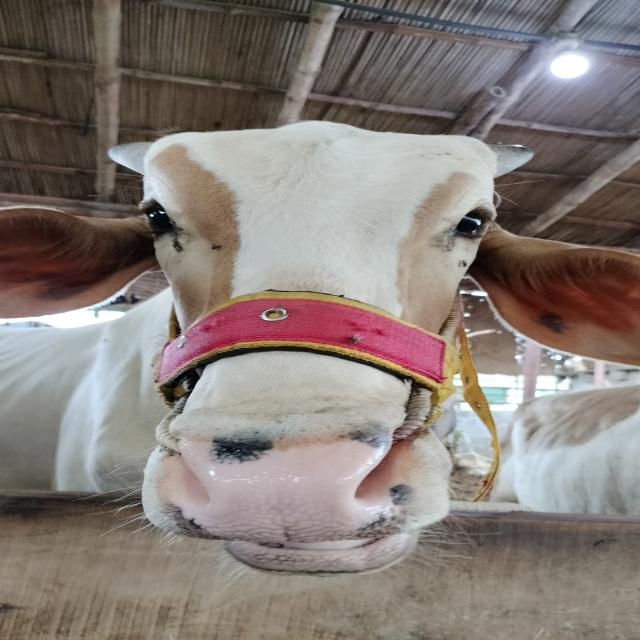muzzles: (142, 422, 446, 551)
